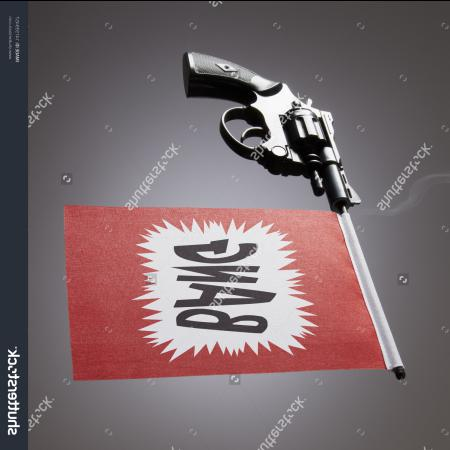Pistol: (181, 52, 361, 214)
